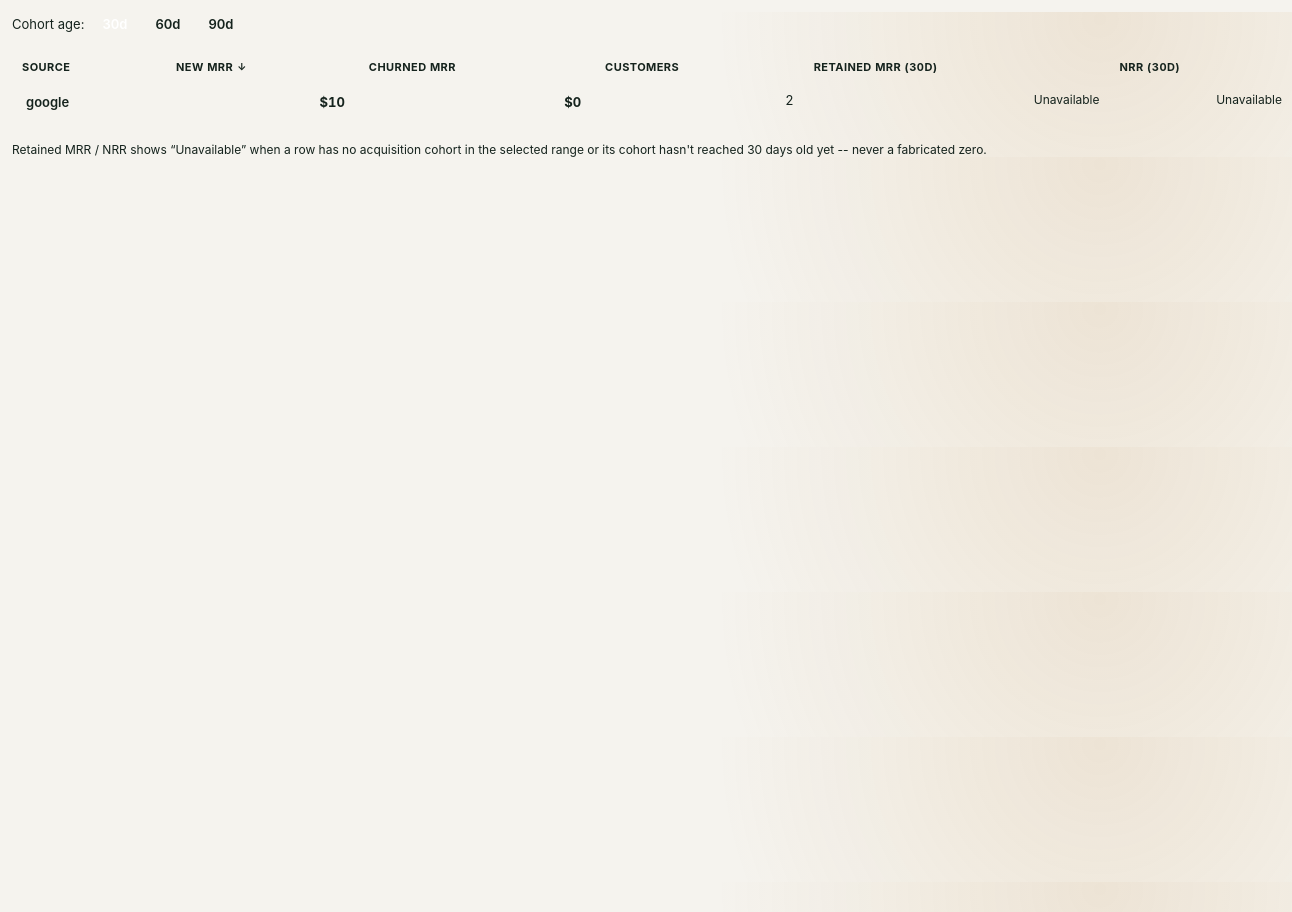
it: ComparisonTable › re-fetches at a different cohort age when a cohort-age button is clicked
The image size is (1292, 912).
expect the button "google" is shown: met, box [22,92,73,112]
Click the button "60d" at x=168, y=24, box [145,12,190,36]
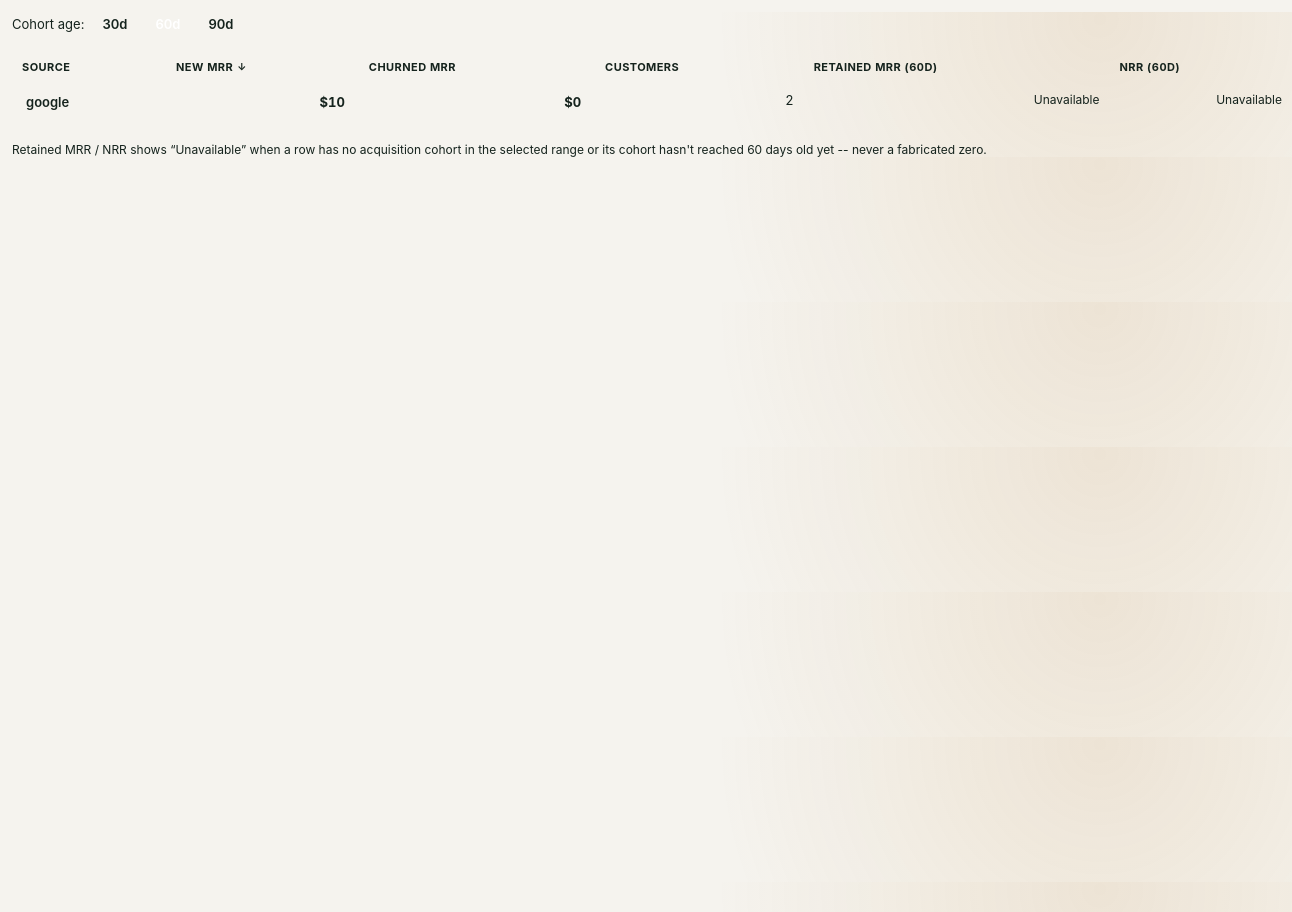
expect the column heading "Retained MRR (60d)" is shown: met, box [804,52,1110,82]
